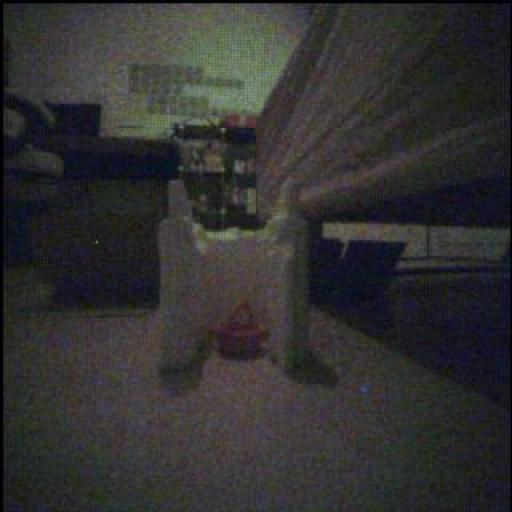basket: (212, 304, 268, 360)
